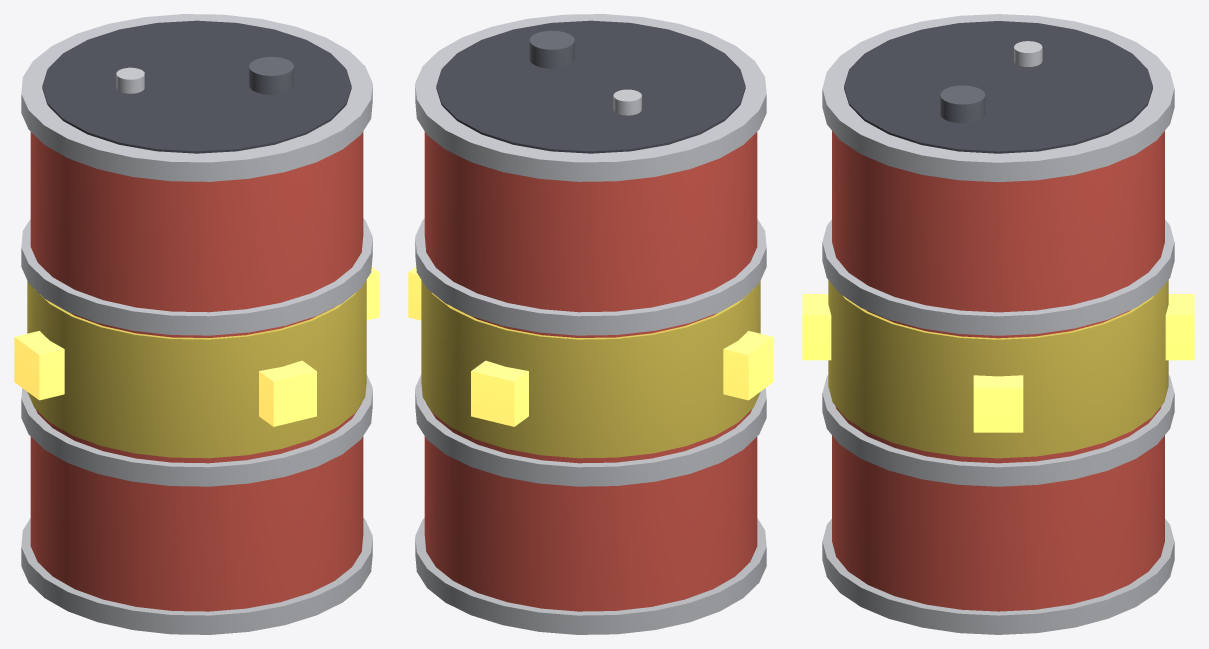
File: explosive_barrel.glb
The picture shows the model from 3 angles, left to right: view 1: azimuth 30°, elevation 25°; view 2: azimuth 150°, elevation 25°; view 3: azimuth 270°, elevation 25°; orthographic projection.
Visible parts, largest first — view 1: Hull; view 2: Hull; view 3: Hull.
Part boxes in pixels (x1,y1,x2,y2): Hull: (14,14,379,634); Hull: (408,14,773,634); Hull: (802,14,1194,634).
Size of what is drawn, in the model's own units: 0.66 by 0.922 by 0.66.
